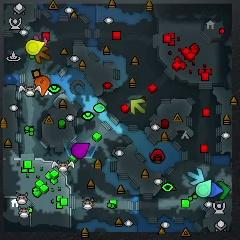p1: (210, 181, 223, 198)
p2: (196, 180, 211, 197)
p3: (72, 143, 90, 159)
p4: (26, 40, 45, 55)
x1: (33, 35, 47, 45)
x2: (130, 99, 146, 115)
x3: (188, 167, 204, 185)
x4: (218, 181, 230, 199)
x5: (34, 46, 52, 62)
